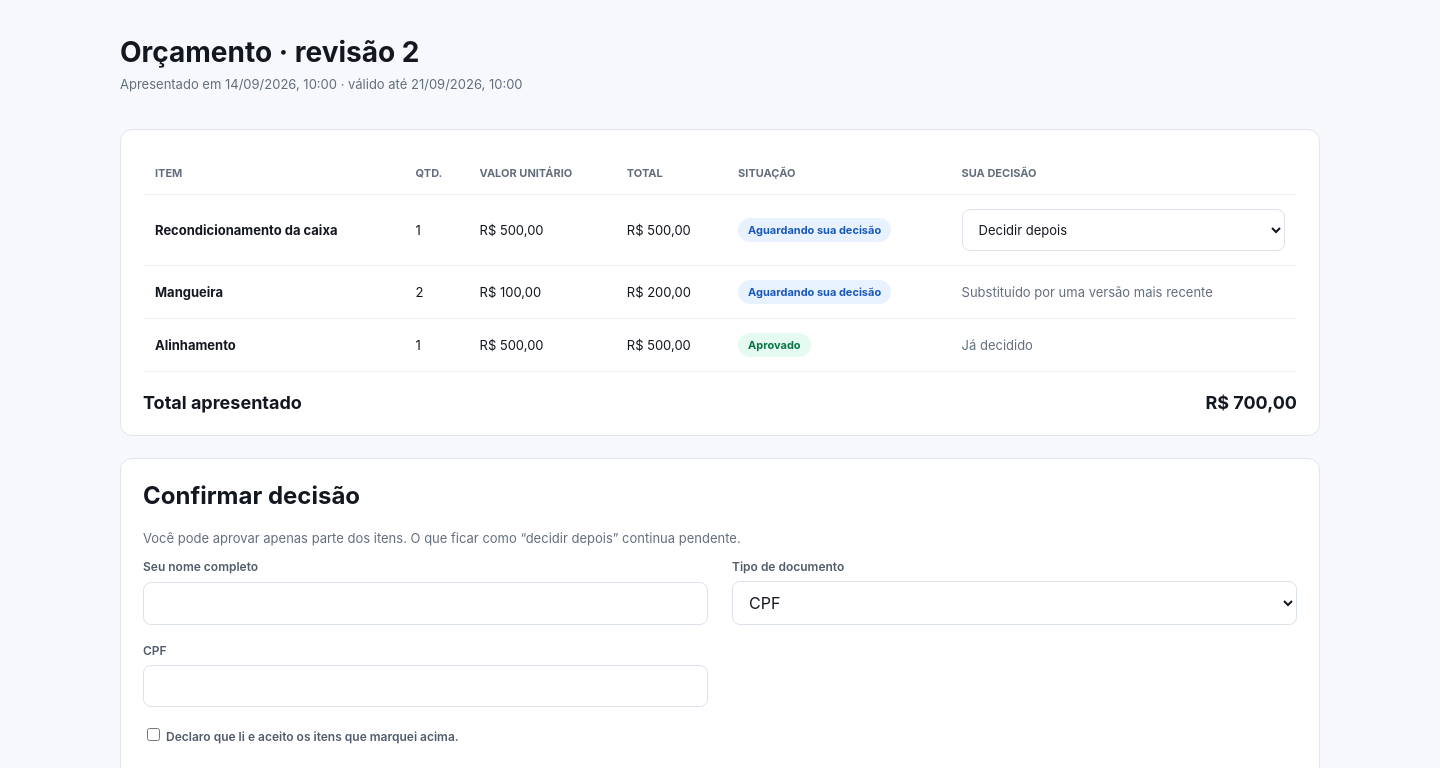
envio exige aceite explícito, nome e documento coerentes
The width and height of the screenshot is (1440, 768).
Select "Aprovar" in the dropdown named "Decisão para Recondicionamento da caixa" at (1123, 230), box [962,209,1285,251]
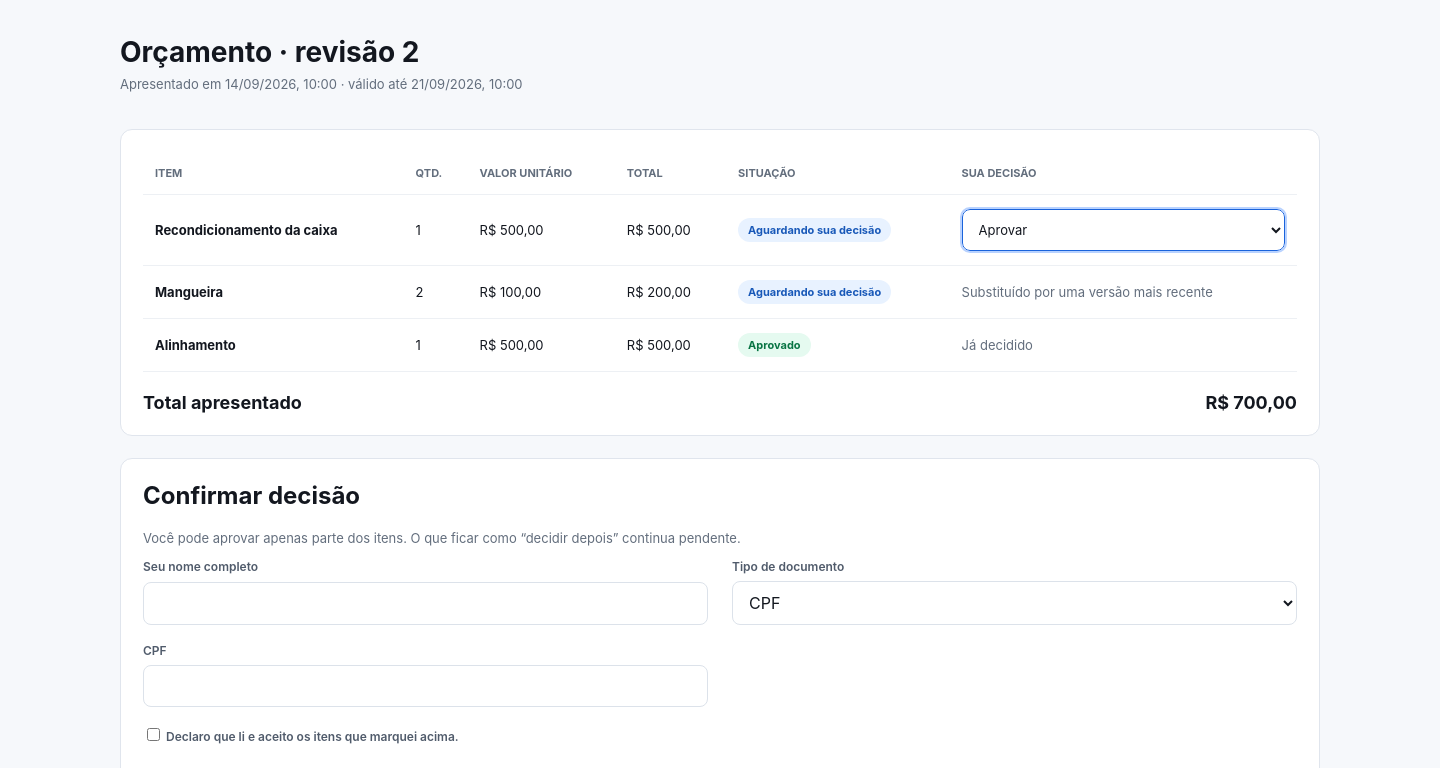
Type "José da Silva" into the field labelled "Seu nome completo" at (426, 603), box [143,582,708,625]
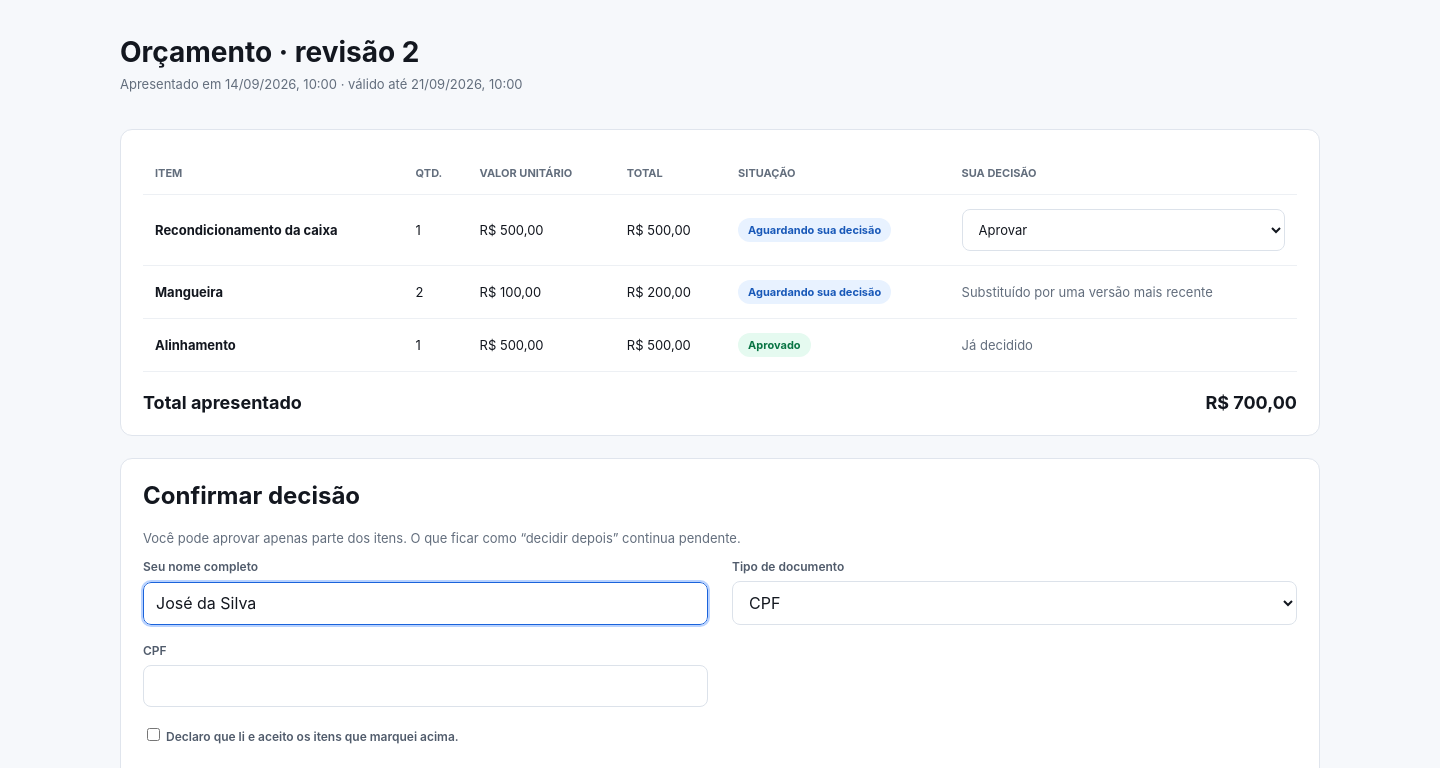
Type "123.456.789-0" into the field labelled "CPF" at (426, 686), box [143,665,708,707]
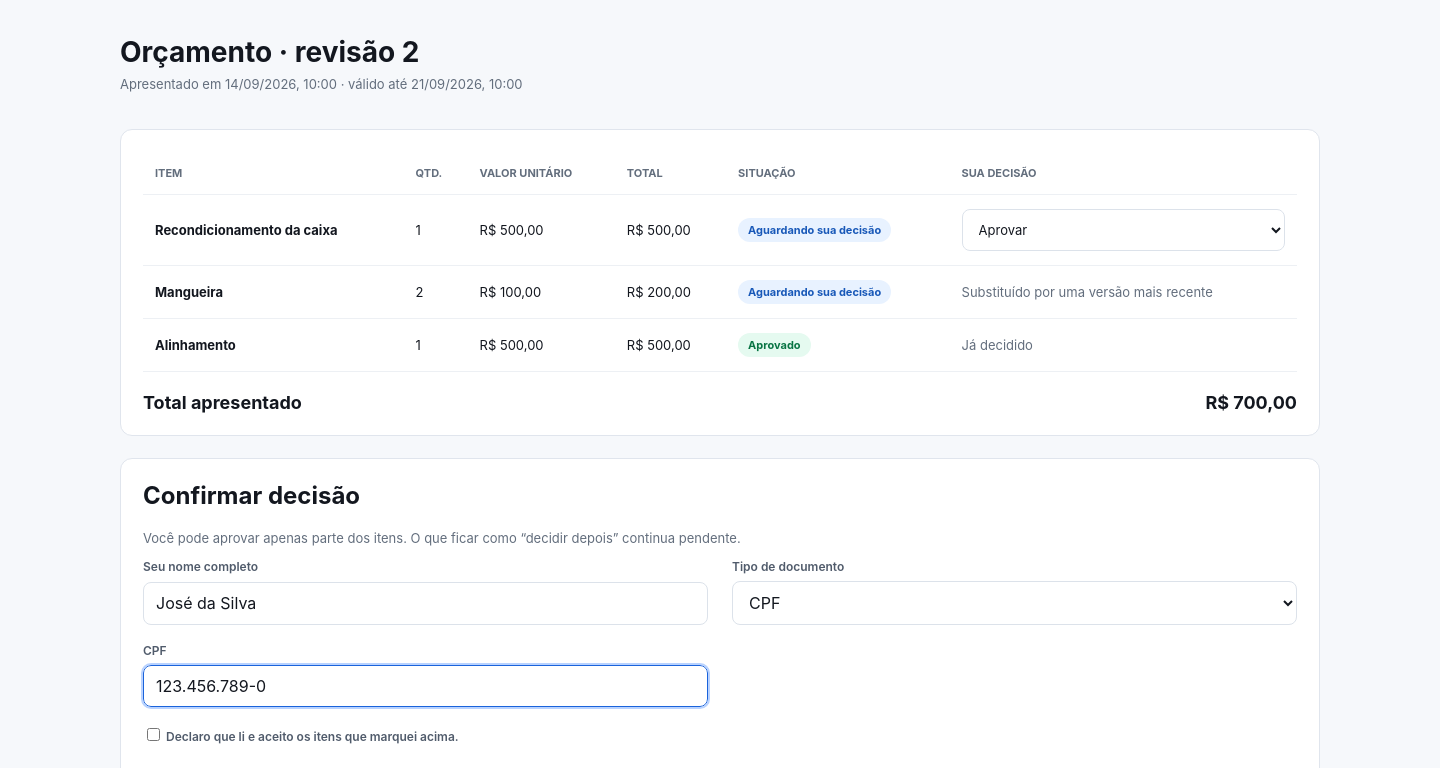
Click the checkbox labelled "Declaro que li e aceito os itens que marquei acima." at (154, 734), box [147,728,160,741]
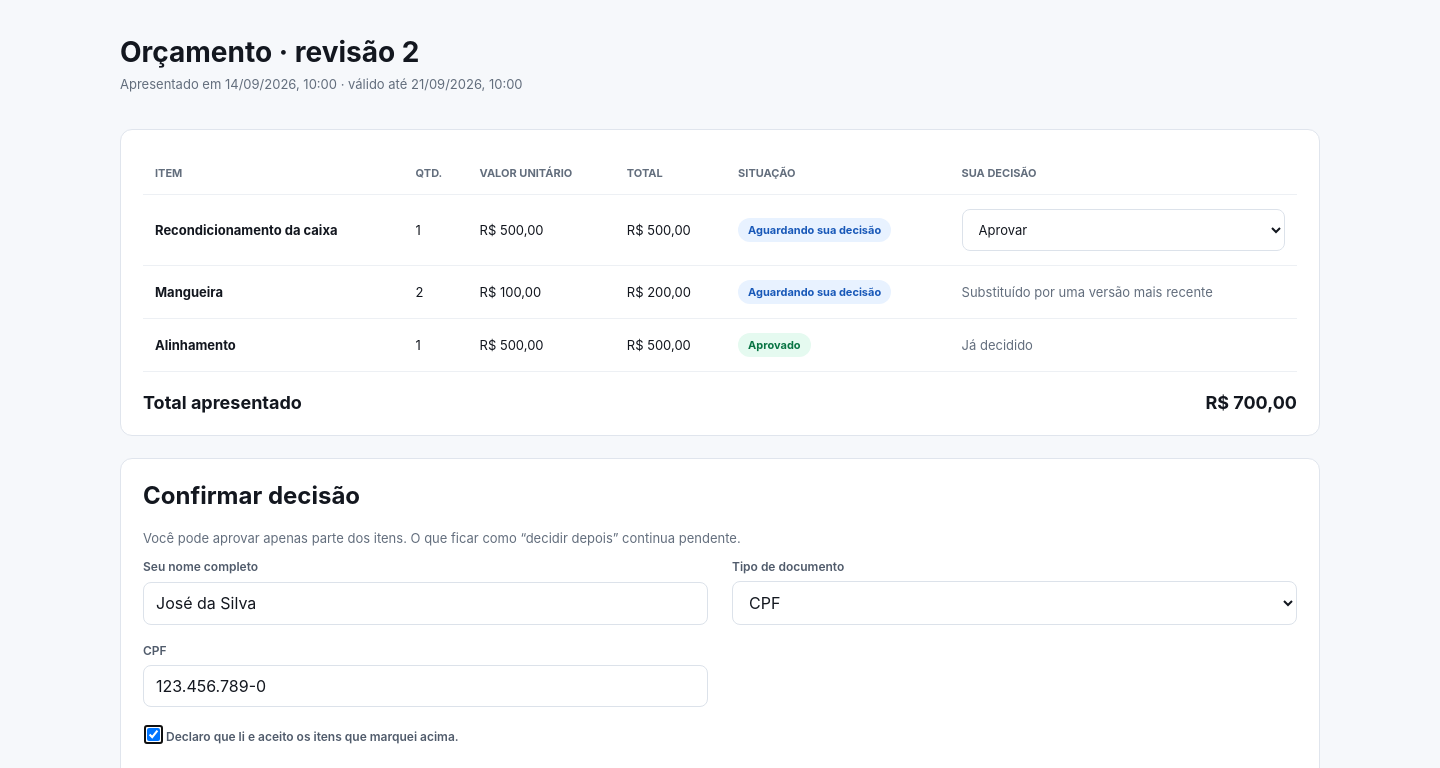
Type "1" into the field labelled "CPF" at (426, 686), box [143,665,708,707]
(page scrolled)
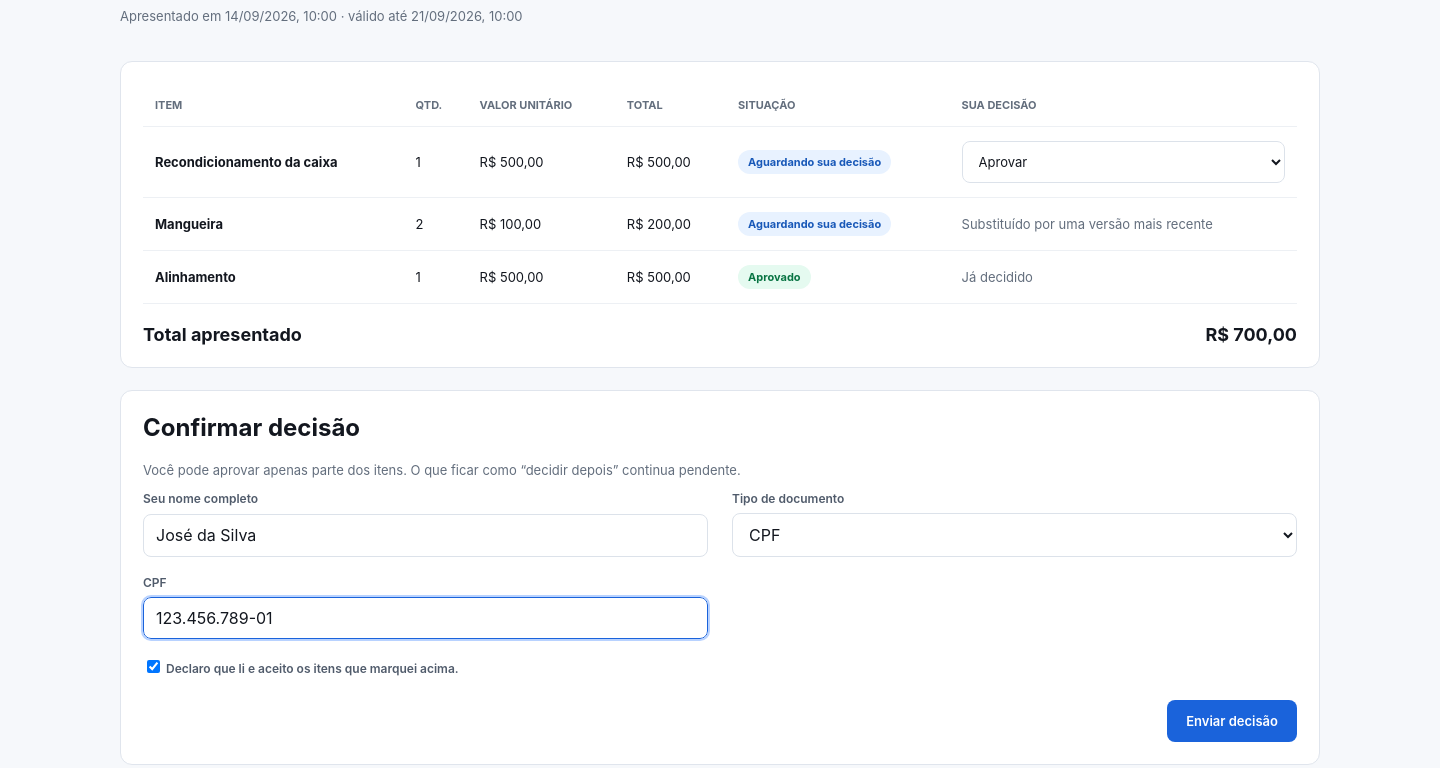
Now the button "Enviar decisão" is enabled, box [1167,700,1297,742]
